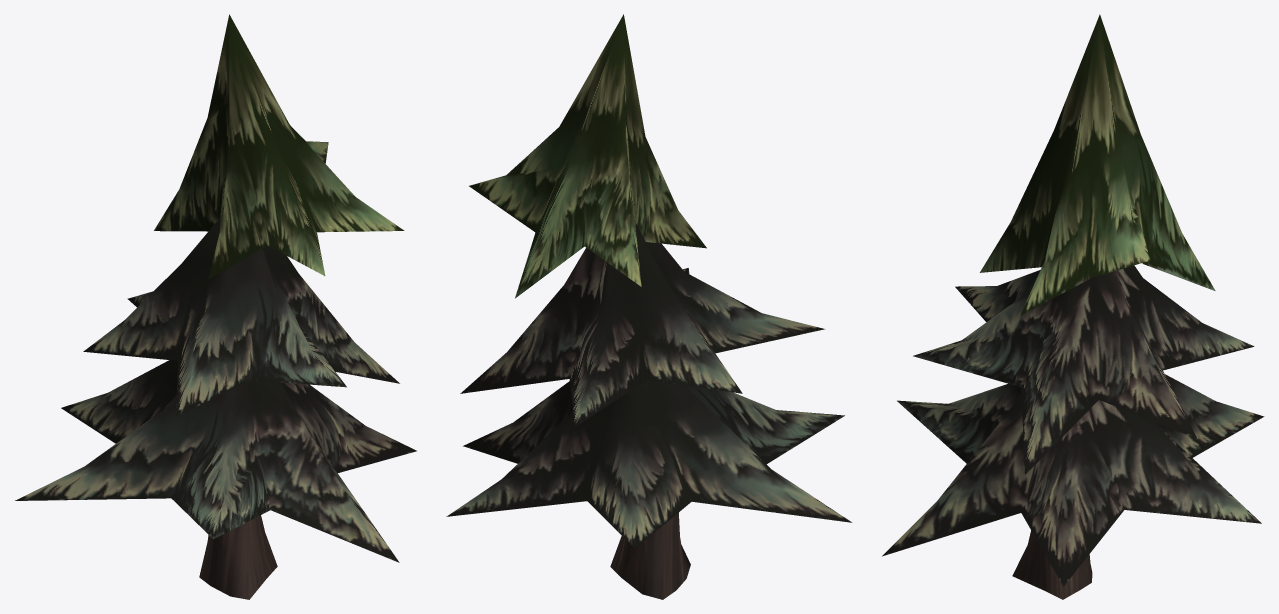
The model's file is Nspruce_1_1.fbx.
The picture shows the model from 3 angles, left to right: view 1: azimuth 30°, elevation 25°; view 2: azimuth 150°, elevation 25°; view 3: azimuth 270°, elevation 25°; orthographic projection. The views are drawn at different scales.
Parts seen in each view (by area): view 1: Nspruce_1_1; view 2: Nspruce_1_1; view 3: Nspruce_1_1.
Boxes of the visible parts, bbox=[...] form: Nspruce_1_1: bbox=[15, 14, 416, 599]; Nspruce_1_1: bbox=[446, 14, 852, 599]; Nspruce_1_1: bbox=[882, 14, 1264, 599].
Bounding box in the file's own units: 105 × 143 × 85.94.
